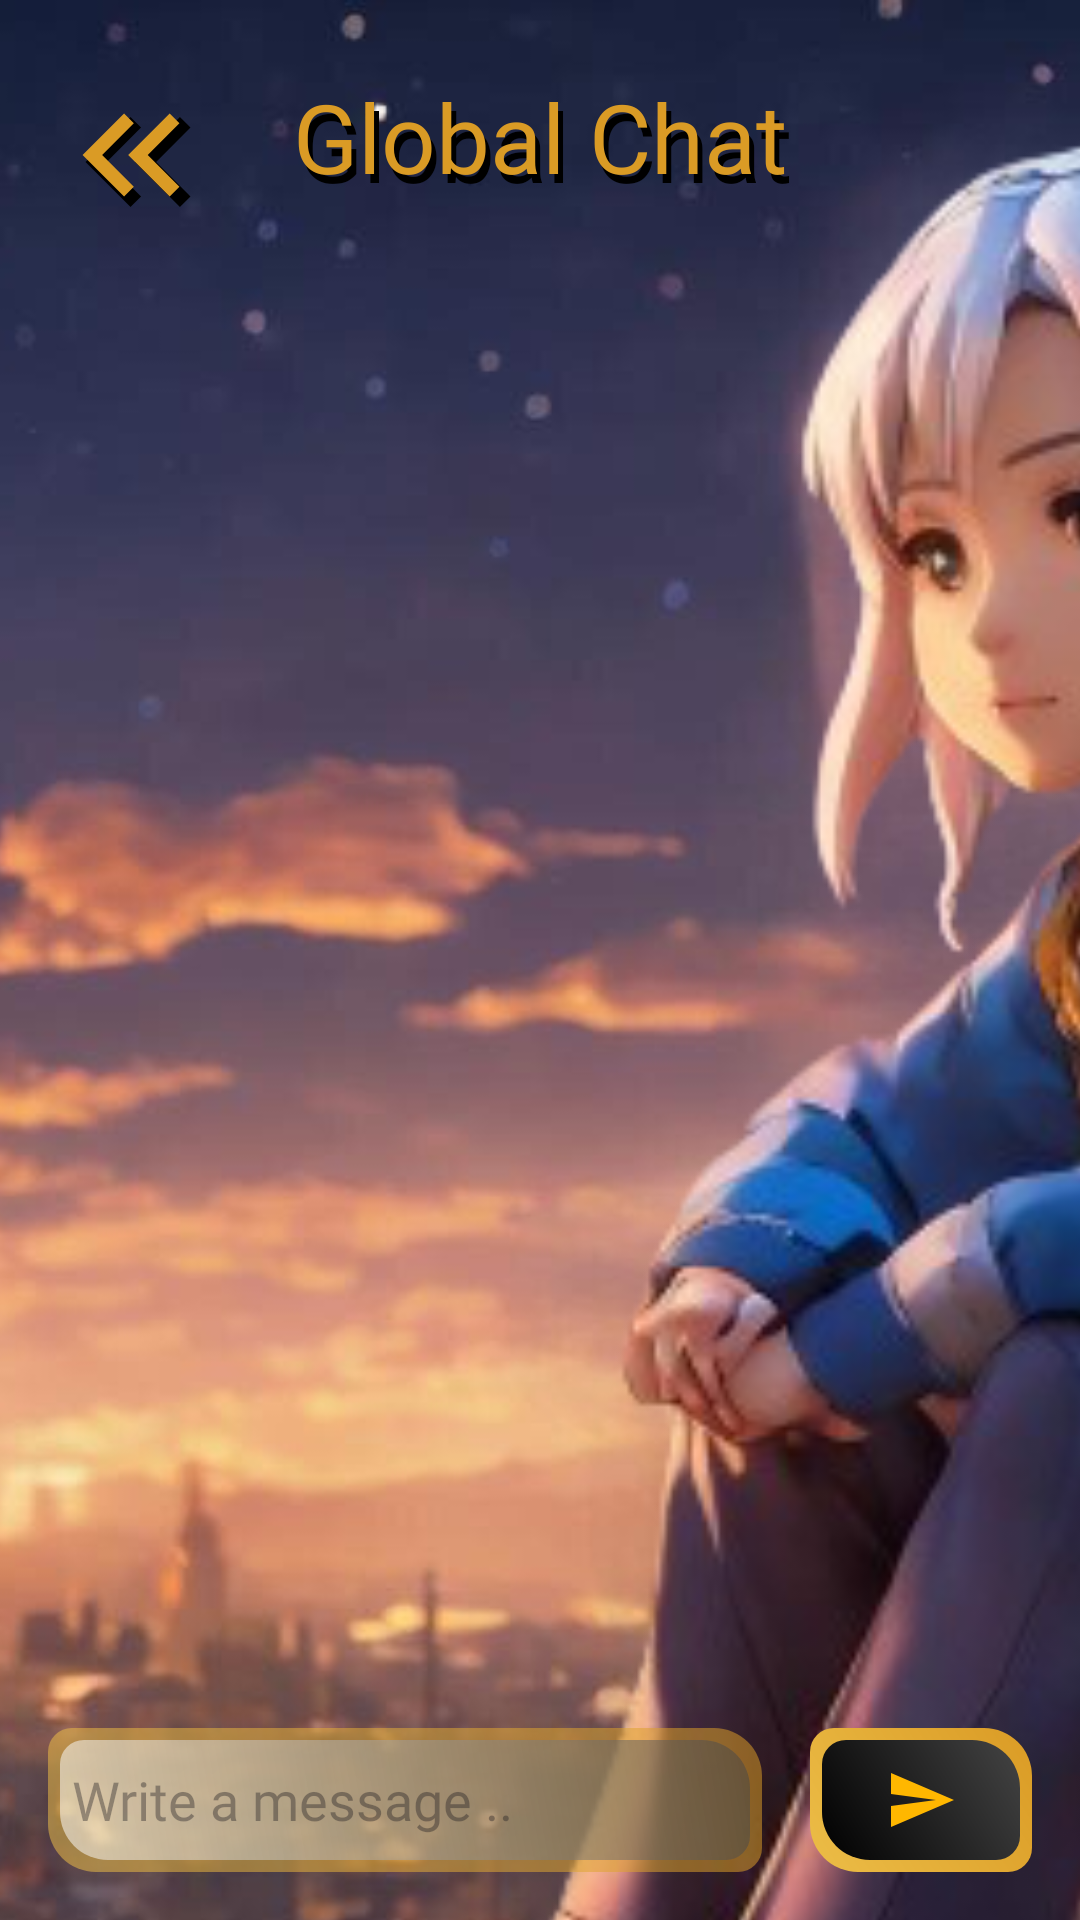

Icon click points for this 1080w x 1920h phone screenshot, format [x,y]:
chevron left: [136,160]
send: [921,1800]
